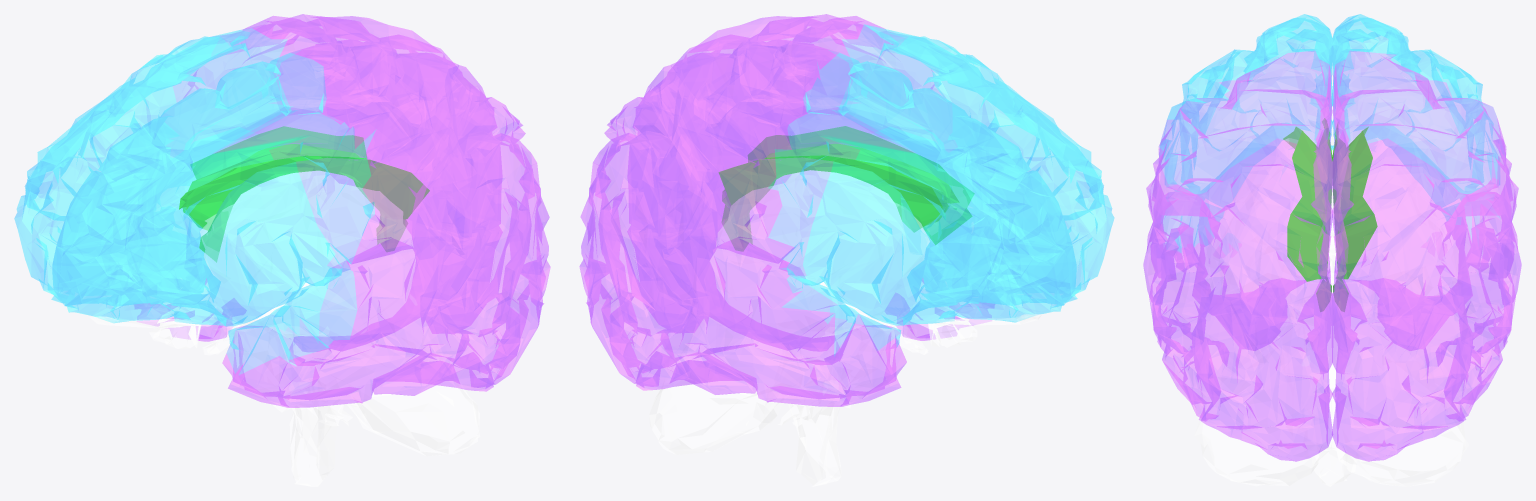
The model's file is neural_networks_of_the_brain.glb.
The picture shows the model from 3 angles, left to right: view 1: azimuth 30°, elevation 25°; view 2: azimuth 150°, elevation 25°; view 3: azimuth 270°, elevation 25°; orthographic projection. The views are drawn at different scales.
Parts seen in each view (by area): view 1: right_08 - Default_0 Back, right_08 - Default_0 Front, centr_08 - Default_0, left_08 - Default_0 Front, left_08 - Default_0 Back, right_08 - Default_0.001, left_08 - Default_0.001; view 2: left_08 - Default_0 Back, left_08 - Default_0 Front, centr_08 - Default_0, right_08 - Default_0 Front, right_08 - Default_0 Back, left_08 - Default_0.001, right_08 - Default_0.001; view 3: left_08 - Default_0 Back, right_08 - Default_0 Back, centr_08 - Default_0, right_08 - Default_0 Front, left_08 - Default_0 Front, right_08 - Default_0.001, left_08 - Default_0.001.
Boxes of the visible parts, x1,y1,x2,y2 form: right_08 - Default_0 Back: (217,41,550,407); right_08 - Default_0 Front: (52,51,375,374); centr_08 - Default_0: (90,171,479,486); left_08 - Default_0 Front: (14,27,287,306); left_08 - Default_0 Back: (134,14,502,341); right_08 - Default_0.001: (179,153,429,262); left_08 - Default_0.001: (182,126,385,244); left_08 - Default_0 Back: (579,41,912,406); left_08 - Default_0 Front: (768,50,1076,355); centr_08 - Default_0: (649,170,1041,486); right_08 - Default_0 Front: (842,24,1114,305); right_08 - Default_0 Back: (627,14,994,340); left_08 - Default_0.001: (718,152,942,251); right_08 - Default_0.001: (744,126,974,244); left_08 - Default_0 Back: (1331,51,1521,461); right_08 - Default_0 Back: (1143,51,1333,461); centr_08 - Default_0: (1194,138,1468,486); right_08 - Default_0 Front: (1159,14,1333,252); left_08 - Default_0 Front: (1331,14,1500,238); right_08 - Default_0.001: (1283,118,1332,311); left_08 - Default_0.001: (1332,124,1377,311).
Size of the model in its own units: 4.73 by 4.32 by 3.5.
Materials: 2 (2 with a texture image).
